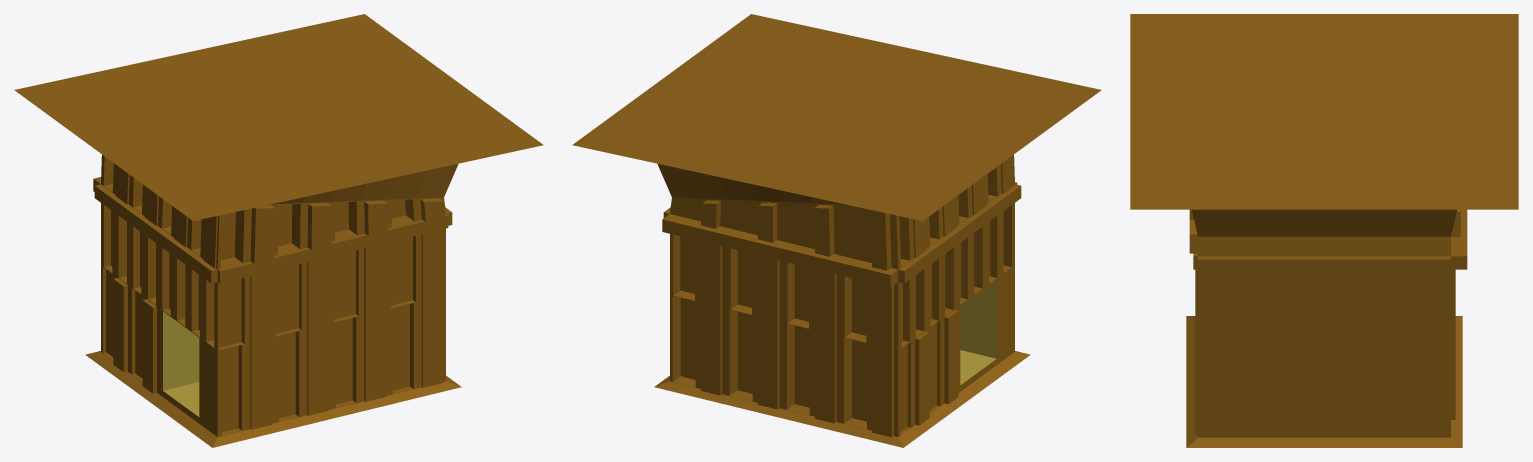
The model's file is house1.fbx.
The picture shows the model from 3 angles, left to right: view 1: azimuth 30°, elevation 25°; view 2: azimuth 150°, elevation 25°; view 3: azimuth 270°, elevation 25°; orthographic projection. The views are drawn at different scales.
Visible parts, largest first — view 1: Cube; view 2: Cube; view 3: Cube.
Boxes of the visible parts, bbox=[...] form: Cube: bbox=[14, 14, 543, 447]; Cube: bbox=[572, 14, 1101, 447]; Cube: bbox=[1130, 14, 1518, 447].
Bounding box in the file's own units: 1213 × 849 × 1074.
